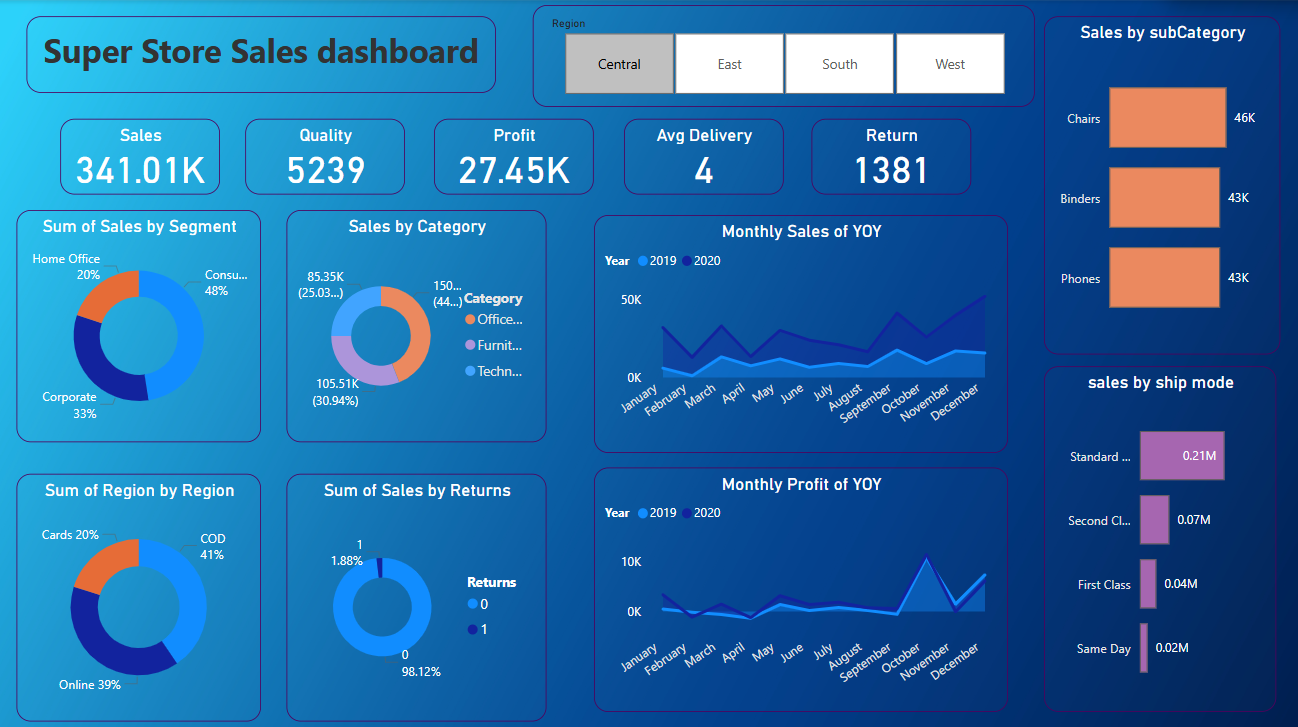

What the dashboard file says about the page in this screenshot:
{"tool":"powerbi","page":{"name":"Page 1","canvas":[1280,720],"ordinal":0},"visuals":[{"type":"donutChart","title":" Sales by Category","fields":{"Category":["SuperStore_Sales_Dataset.Category"],"Y":["Sum(SuperStore_Sales_Dataset.Sales)"]},"box":[286.8,205.8,255.2,227.8],"z":0},{"type":"clusteredBarChart","title":" Sales by subCategory","fields":{"Category":["SuperStore_Sales_Dataset.Sub-Category"],"Y":["Sum(SuperStore_Sales_Dataset.Sales)"]},"box":[1030.5,16.5,231.9,332.1],"z":1000},{"type":"clusteredBarChart","title":" sales by ship mode ","fields":{"Category":["SuperStore_Sales_Dataset.Ship Mode"],"Y":["Sum(SuperStore_Sales_Dataset.Sales)"]},"box":[1030.5,359.5,227.8,338.9],"z":2000},{"type":"stackedAreaChart","title":"Monthly Sales of YOY","fields":{"Category":["SuperStore_Sales_Dataset.Order Date.Variation.Date Hierarchy.Month"],"Y":["Sum(SuperStore_Sales_Dataset.Sales)"],"Series":["SuperStore_Sales_Dataset.Order Date.Variation.Date Hierarchy.Year"]},"box":[588.7,211.3,406.2,233.3],"z":3000},{"type":"stackedAreaChart","title":"Monthly Profit of YOY","fields":{"Category":["SuperStore_Sales_Dataset.Order Date.Variation.Date Hierarchy.Month"],"Series":["SuperStore_Sales_Dataset.Order Date.Variation.Date Hierarchy.Year"],"Y":["Sum(SuperStore_Sales_Dataset.Profit)"]},"box":[588.7,458.3,406.2,240.1],"z":4000},{"type":"donutChart","fields":{"Category":["SuperStore_Sales_Dataset.Segment"],"Y":["Sum(SuperStore_Sales_Dataset.Sales)"]},"box":[22,205.8,240.1,227.8],"z":5000},{"type":"donutChart","title":"Sum of Region by Region","fields":{"Category":["SuperStore_Sales_Dataset.Payment Mode"],"Y":["Sum(SuperStore_Sales_Dataset.Sales)"]},"box":[22,465.2,240.1,242.9],"z":6000},{"type":"slicer","fields":{"Values":["SuperStore_Sales_Dataset.Region"]},"box":[528.3,5.5,492.6,100.2],"z":7000},{"type":"textbox","box":[31.6,16.5,461.1,75.5],"z":8000},{"type":"card","title":"Sales","fields":{"Values":["Sum(SuperStore_Sales_Dataset.Sales)"]},"box":[64.5,116.6,156.4,74.1],"z":9000},{"type":"card","title":"Quality","fields":{"Values":["Sum(SuperStore_Sales_Dataset.Quantity)"]},"box":[247,116.6,156.4,74.1],"z":10000},{"type":"card","title":"Profit","fields":{"Values":["Sum(SuperStore_Sales_Dataset.Profit)"]},"box":[432.2,116.6,156.4,74.1],"z":11000},{"type":"card","title":"Avg Delivery ","fields":{"Values":["Avg(SuperStore_Sales_Dataset.Avg_Delivery)"]},"box":[618.9,116.6,156.4,74.1],"z":12000},{"type":"donutChart","fields":{"Y":["Sum(SuperStore_Sales_Dataset.Sales)"],"Category":["SuperStore_Sales_Dataset.Returns"]},"box":[286.8,465.2,255.2,242.9],"z":13000},{"type":"card","title":"Return","fields":{"Values":["CountNonNull(SuperStore_Sales_Dataset.Returns)"]},"box":[802.7,116.6,156.4,74.1],"z":14000}]}

Visuals, with their boxes in screenshot pixels (x1, y1, x2, y2), scaled from the page's 1280x720 canvas onto the 1298x727 screenshot:
" Sales by Category" donutChart: [x1=291, y1=208, x2=550, y2=438]
" Sales by subCategory" clusteredBarChart: [x1=1045, y1=17, x2=1280, y2=352]
" sales by ship mode " clusteredBarChart: [x1=1045, y1=363, x2=1276, y2=705]
"Monthly Sales of YOY" stackedAreaChart: [x1=597, y1=213, x2=1009, y2=449]
"Monthly Profit of YOY" stackedAreaChart: [x1=597, y1=463, x2=1009, y2=705]
donutChart - SuperStore_Sales_Dataset.Segment x Sum(SuperStore_Sales_Dataset.Sales): [x1=22, y1=208, x2=266, y2=438]
"Sum of Region by Region" donutChart: [x1=22, y1=470, x2=266, y2=715]
slicer - SuperStore_Sales_Dataset.Region: [x1=536, y1=6, x2=1035, y2=107]
textbox: [x1=32, y1=17, x2=500, y2=93]
"Sales" card: [x1=65, y1=118, x2=224, y2=193]
"Quality" card: [x1=250, y1=118, x2=409, y2=193]
"Profit" card: [x1=438, y1=118, x2=597, y2=193]
"Avg Delivery " card: [x1=628, y1=118, x2=786, y2=193]
donutChart - Sum(SuperStore_Sales_Dataset.Sales) x SuperStore_Sales_Dataset.Returns: [x1=291, y1=470, x2=550, y2=715]
"Return" card: [x1=814, y1=118, x2=973, y2=193]
